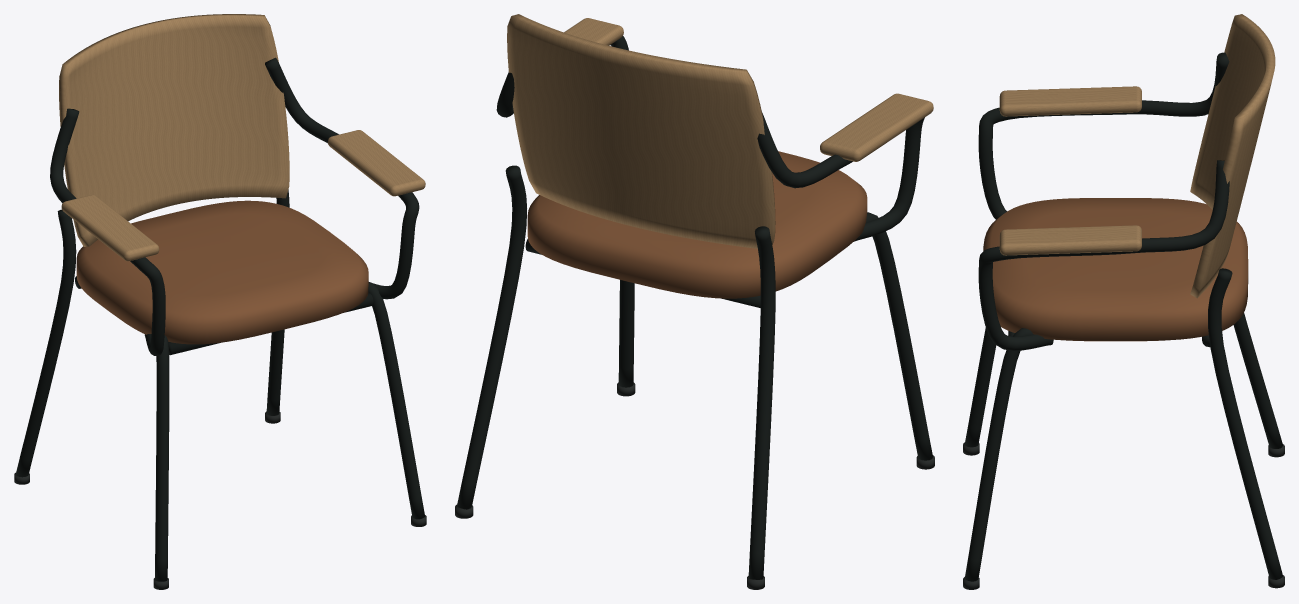
Rendered from lod0_source.glb.
3 views of the same model, side by side, from view 1: azimuth 30°, elevation 25°; view 2: azimuth 150°, elevation 25°; view 3: azimuth 270°, elevation 25° (orthographic). The views are drawn at different scales.
Visible parts, largest first — view 1: Curved natural wood backrest, Caramel upholstered rounded seat, Rear leg -1, Front leg -1, Front leg 1, Natural wood arm pad -1, Natural wood arm pad 1, Continuous tubular arm loop 1, Continuous tubular arm loop -1, Rear leg 1; view 2: Curved natural wood backrest, Caramel upholstered rounded seat, Rear leg -1, Rear leg 1, Continuous tubular arm loop -1, Natural wood arm pad -1, Front leg -1, Front leg 1, Natural wood arm pad 1, Continuous tubular arm loop 1; view 3: Caramel upholstered rounded seat, Curved natural wood backrest, Continuous tubular arm loop 1, Rear leg 1, Natural wood arm pad -1, Natural wood arm pad 1, Front leg 1, Continuous tubular arm loop -1, Rear leg -1, Front leg -1.
Part boxes in pixels (x1=…): Curved natural wood backrest: x1=59, y1=14, x2=289, y2=246; Caramel upholstered rounded seat: x1=76, y1=200, x2=368, y2=344; Rear leg -1: x1=16, y1=209, x2=76, y2=477; Front leg -1: x1=155, y1=335, x2=169, y2=581; Front leg 1: x1=368, y1=282, x2=424, y2=519; Natural wood arm pad -1: x1=61, y1=195, x2=159, y2=261; Natural wood arm pad 1: x1=327, y1=130, x2=425, y2=196; Continuous tubular arm loop 1: x1=265, y1=57, x2=419, y2=299; Continuous tubular arm loop -1: x1=50, y1=108, x2=165, y2=355; Rear leg 1: x1=266, y1=189, x2=289, y2=415; Curved natural wood backrest: x1=507, y1=14, x2=775, y2=248; Caramel upholstered rounded seat: x1=527, y1=151, x2=867, y2=298; Rear leg -1: x1=748, y1=226, x2=775, y2=579; Rear leg 1: x1=457, y1=165, x2=526, y2=509; Continuous tubular arm loop -1: x1=757, y1=112, x2=924, y2=241; Natural wood arm pad -1: x1=820, y1=93, x2=933, y2=161; Front leg -1: x1=866, y1=212, x2=932, y2=460; Front leg 1: x1=618, y1=280, x2=634, y2=387; Natural wood arm pad 1: x1=564, y1=18, x2=623, y2=45; Continuous tubular arm loop 1: x1=496, y1=36, x2=628, y2=117; Caramel upholstered rounded seat: x1=983, y1=198, x2=1248, y2=341; Curved natural wood backrest: x1=1190, y1=14, x2=1275, y2=298; Continuous tubular arm loop 1: x1=978, y1=160, x2=1229, y2=350; Rear leg 1: x1=1208, y1=268, x2=1282, y2=579; Natural wood arm pad -1: x1=999, y1=86, x2=1141, y2=116; Natural wood arm pad 1: x1=999, y1=225, x2=1141, y2=255; Front leg 1: x1=964, y1=328, x2=1033, y2=581; Continuous tubular arm loop -1: x1=978, y1=52, x2=1229, y2=219; Rear leg -1: x1=1233, y1=313, x2=1282, y2=448; Front leg -1: x1=964, y1=327, x2=996, y2=447.
Size of the model in its own units: 0.625 by 0.8508 by 0.54.
4 materials, 1 textured.
